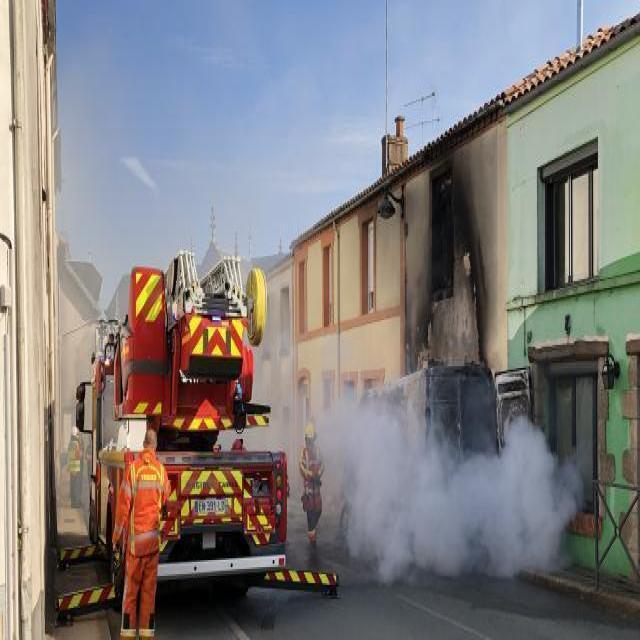Smoke: (331, 434, 556, 574)
